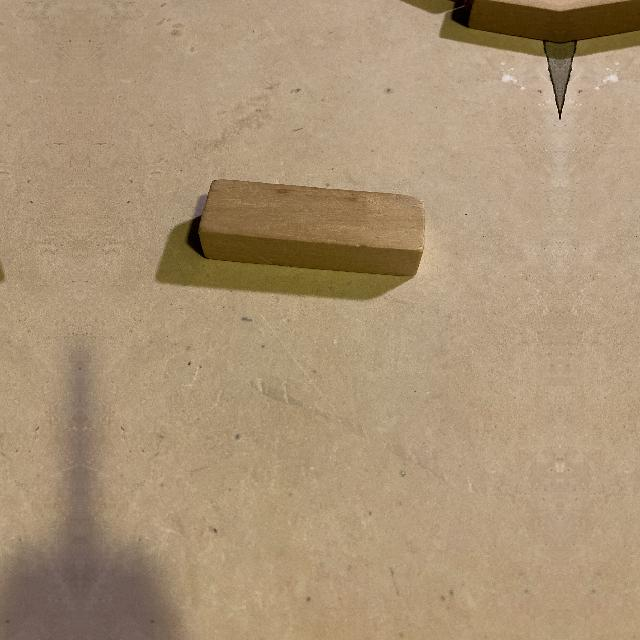jenga: (197, 180, 425, 277)
